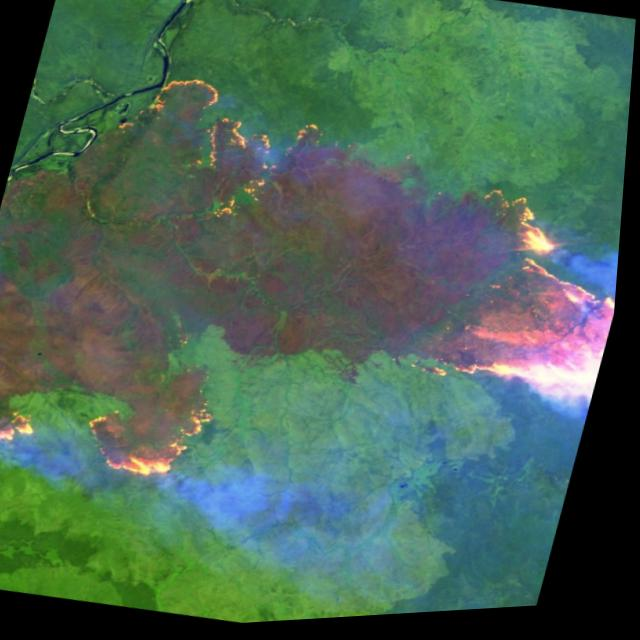fire: (418, 176, 628, 438), (110, 62, 343, 244), (0, 324, 236, 499)
